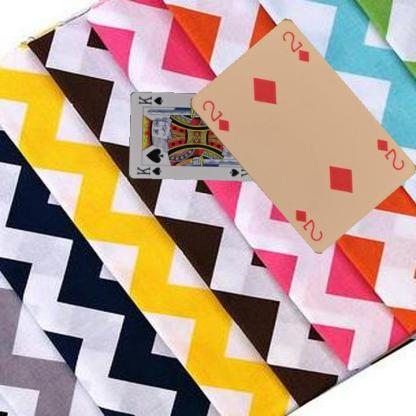2d: (373, 136, 406, 172), (200, 97, 231, 134)
Ks: (135, 164, 163, 176)
